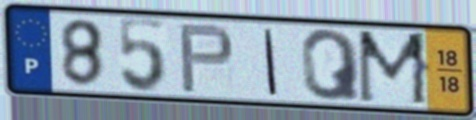5: (117, 15, 171, 96)
8: (58, 17, 108, 89)
I: (262, 26, 281, 98)
M: (355, 28, 432, 109)
P: (176, 22, 237, 95)
Q: (298, 27, 364, 103)
